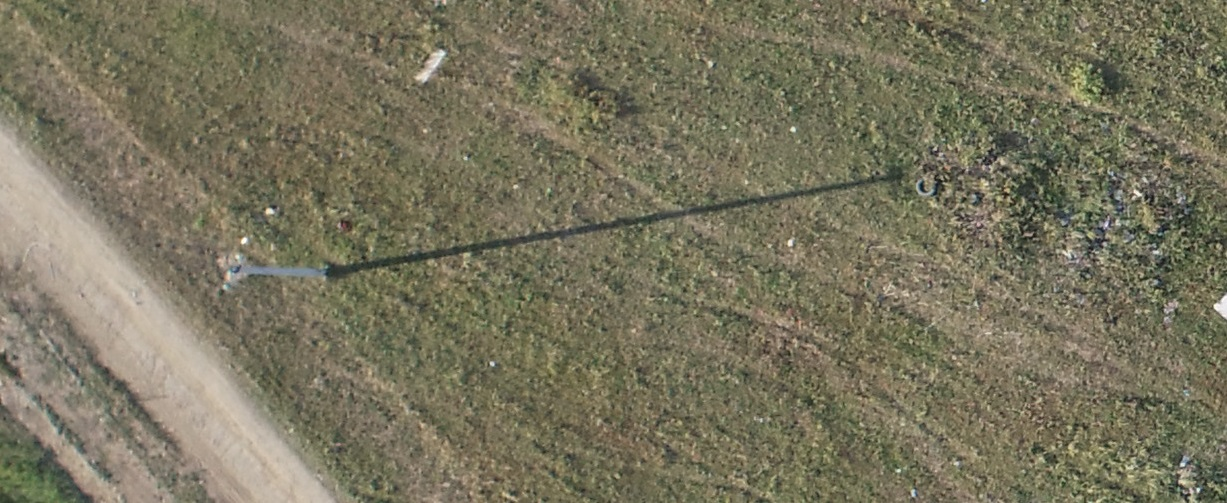opora: (217, 241, 409, 290)
